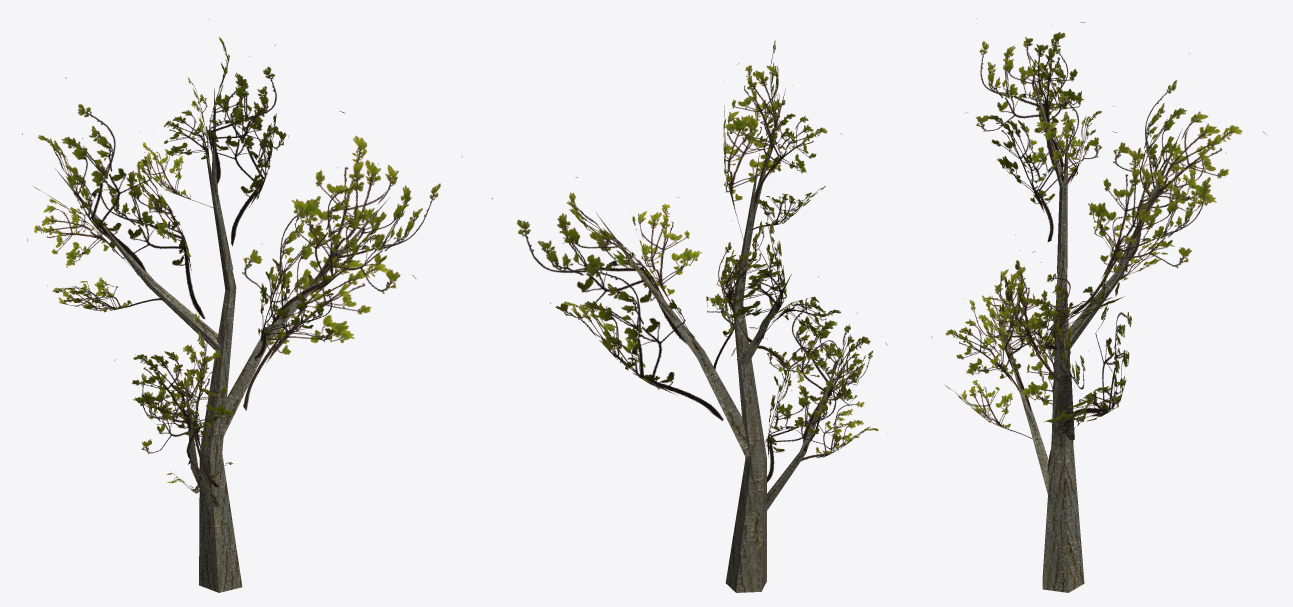
File: tree_2.glb
3 renders of one model, left to right at view 1: azimuth 30°, elevation 25°; view 2: azimuth 150°, elevation 25°; view 3: azimuth 270°, elevation 25°, orthographic. The views are drawn at different scales.
Parts seen in each view (by area): view 1: Tree_2; view 2: Tree_2; view 3: Tree_2.
Part boxes in pixels (x1=…): Tree_2: x1=22, y1=37, x2=462, y2=592; Tree_2: x1=491, y1=40, x2=887, y2=592; Tree_2: x1=931, y1=18, x2=1266, y2=592.
Bounding box in the file's own units: 3.39 × 4.43 × 2.49.
Materials: 2 (2 with a texture image).
